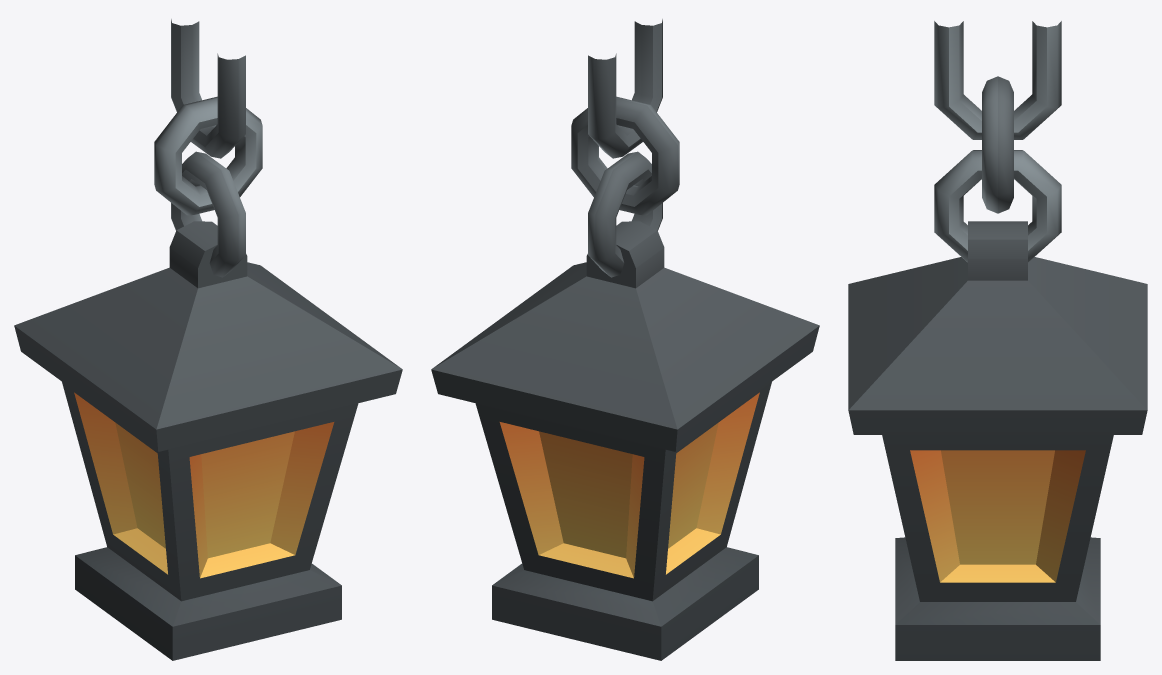
Rendered from lantern_hanging.glb.
3 renders of one model, left to right at view 1: azimuth 30°, elevation 25°; view 2: azimuth 150°, elevation 25°; view 3: azimuth 270°, elevation 25°, orthographic. The views are drawn at different scales.
Visible parts, largest first — view 1: lantern_hanging; view 2: lantern_hanging; view 3: lantern_hanging.
Boxes of the visible parts, x1,y1,x2,y2 form: lantern_hanging: (14, 19, 402, 660); lantern_hanging: (431, 19, 819, 660); lantern_hanging: (848, 21, 1147, 660).
Bounding box in the file's own units: 0.64 × 1.41 × 0.64.
1 material, 1 textured.
